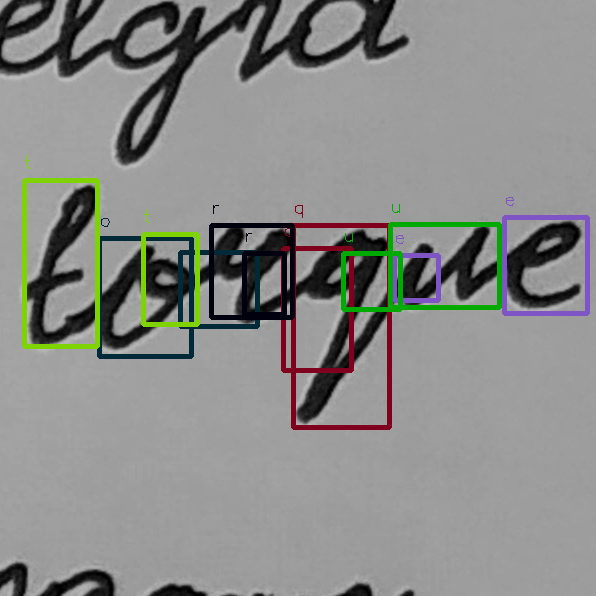e: (499, 214, 592, 315)
o: (89, 237, 198, 359)
q: (291, 222, 394, 425)
r: (201, 217, 299, 328)
t: (18, 182, 106, 349)
u: (396, 218, 496, 315)
